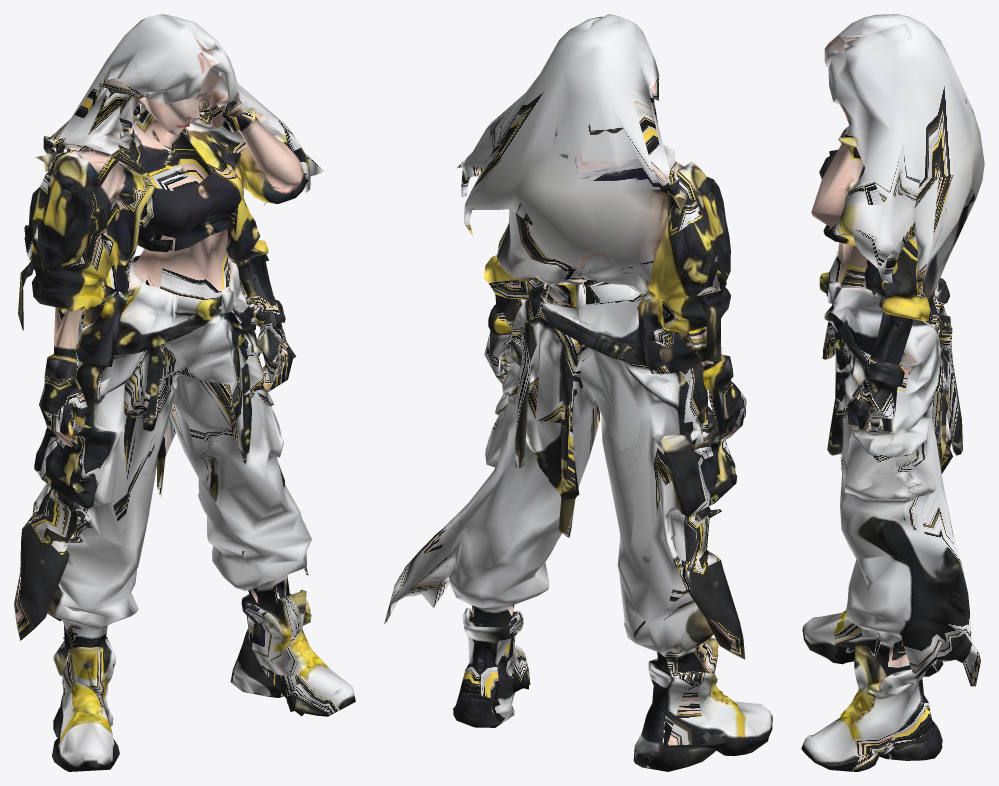
The model's file is ivory-lo.glb.
3 renders of one model, left to right at view 1: azimuth 30°, elevation 25°; view 2: azimuth 150°, elevation 25°; view 3: azimuth 270°, elevation 25°, orthographic. The views are drawn at different scales.
Visible parts, largest first — view 1: model; view 2: model; view 3: model.
Part boxes in pixels (left/top/right/bottom): model: left=14, top=14, right=355, bottom=771; model: left=384, top=14, right=772, bottom=771; model: left=801, top=14, right=984, bottom=771.
Size of the model in its own units: 0.8906 by 1.9 by 0.4593.
1 material, 1 textured.
